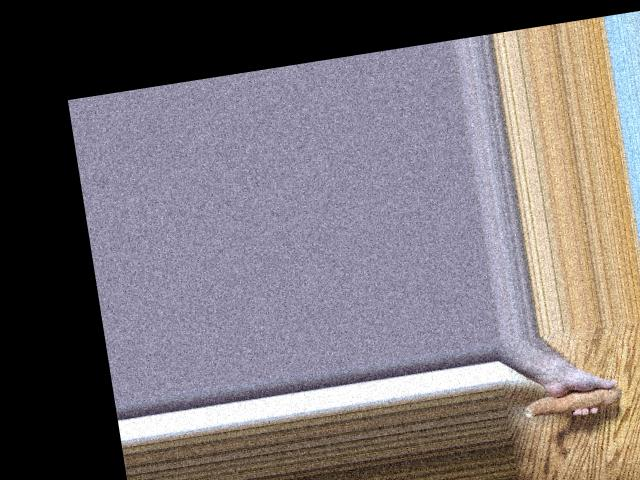sweet_potato: (519, 374, 624, 419)
